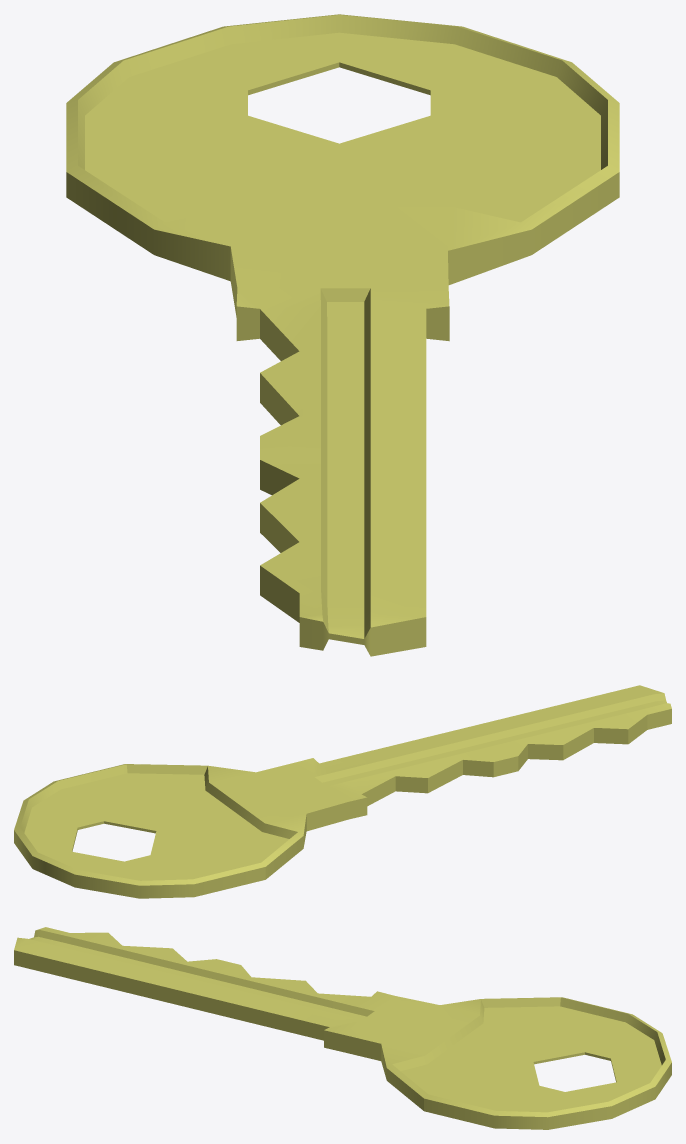
Rendered from StoreConfidential_L3_KeyCollectibleStatic_v9.gltf.
The picture shows the model from 3 angles, top to bottom: view 1: azimuth 30°, elevation 25°; view 2: azimuth 150°, elevation 25°; view 3: azimuth 270°, elevation 25°; orthographic projection. The views are drawn at different scales.
Visible parts, largest first — view 1: key_growAnim; view 2: key_growAnim; view 3: key_growAnim.
Boxes of the visible parts, x1,y1,x2,y2 form: key_growAnim: (66,14,619,656); key_growAnim: (14,685,671,898); key_growAnim: (14,927,671,1129).
Bounding box in the file's own units: 0.2414 × 0.0104 × 0.355.
